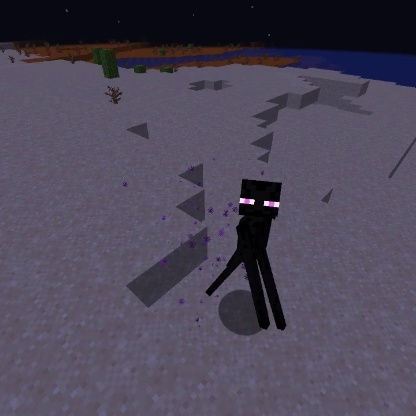enderman: (200, 176, 292, 334)
